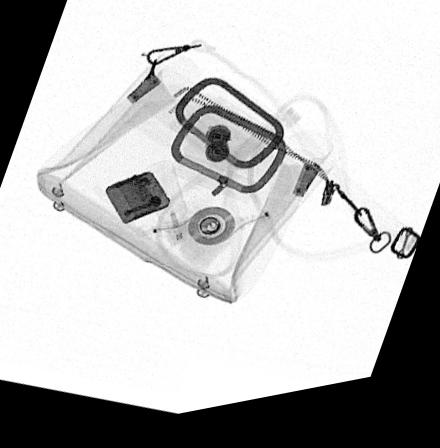Lighter: (103, 176, 170, 228)
